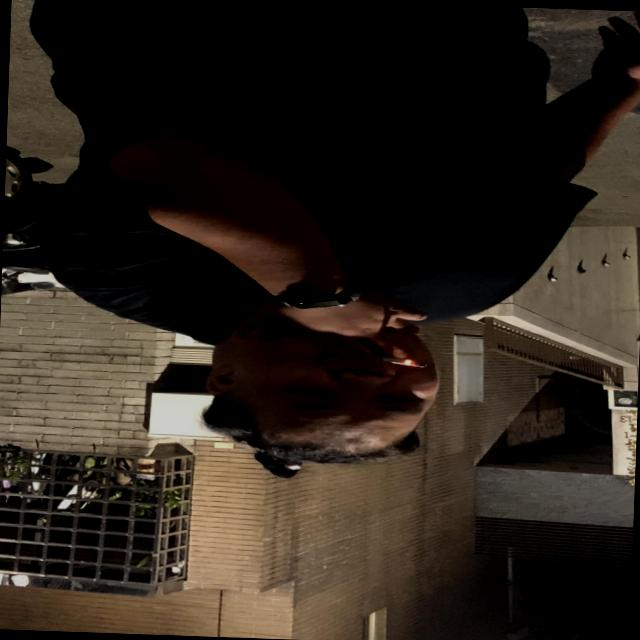cigarette: (344, 338, 452, 376)
